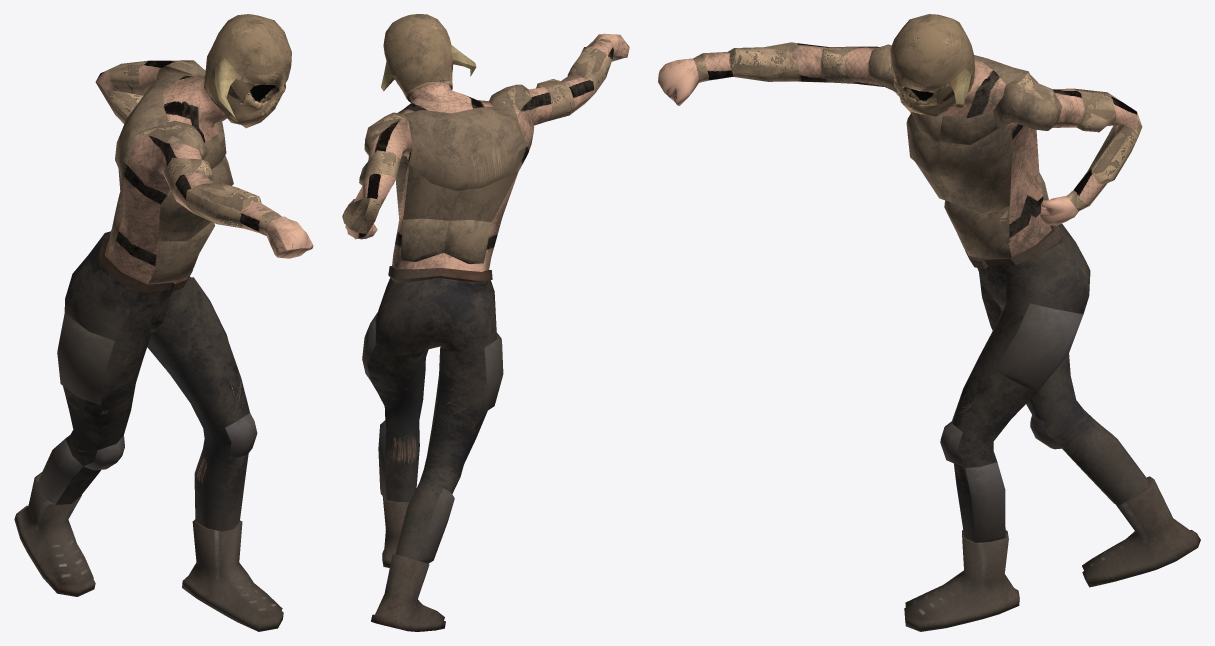
File: Anim_ataque_d3_npc1.0027.obj
3 views of the same model, side by side, from view 1: azimuth 30°, elevation 25°; view 2: azimuth 150°, elevation 25°; view 3: azimuth 270°, elevation 25° (orthographic). The views are drawn at different scales.
Visible parts, largest first — view 1: NPC2; view 2: NPC2; view 3: NPC2.
Boxes of the visible parts, bbox=[...] form: NPC2: bbox=[14, 14, 313, 631]; NPC2: bbox=[342, 14, 629, 631]; NPC2: bbox=[658, 14, 1200, 631].
Bounding box in the file's own units: 2.66 × 8.89 × 7.17.
